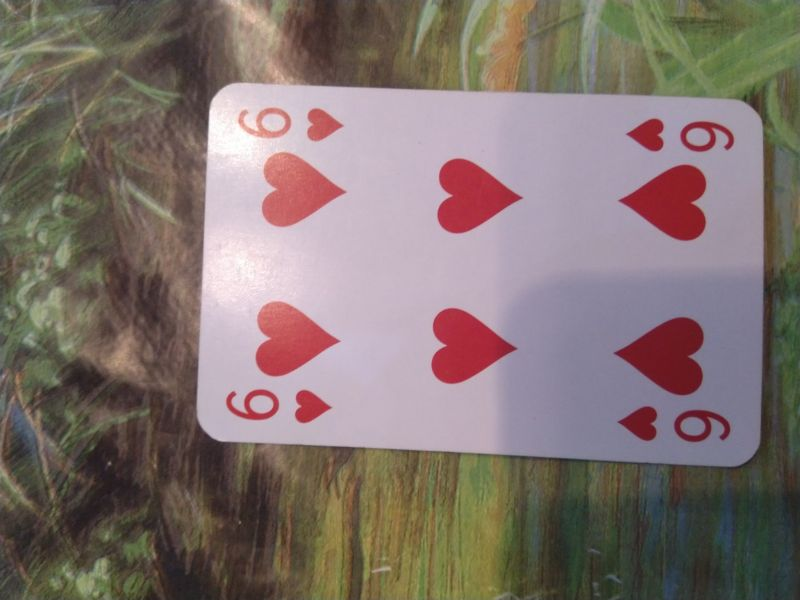6h: (610, 397, 739, 448), (617, 110, 743, 158), (230, 98, 352, 145), (219, 382, 339, 425)
